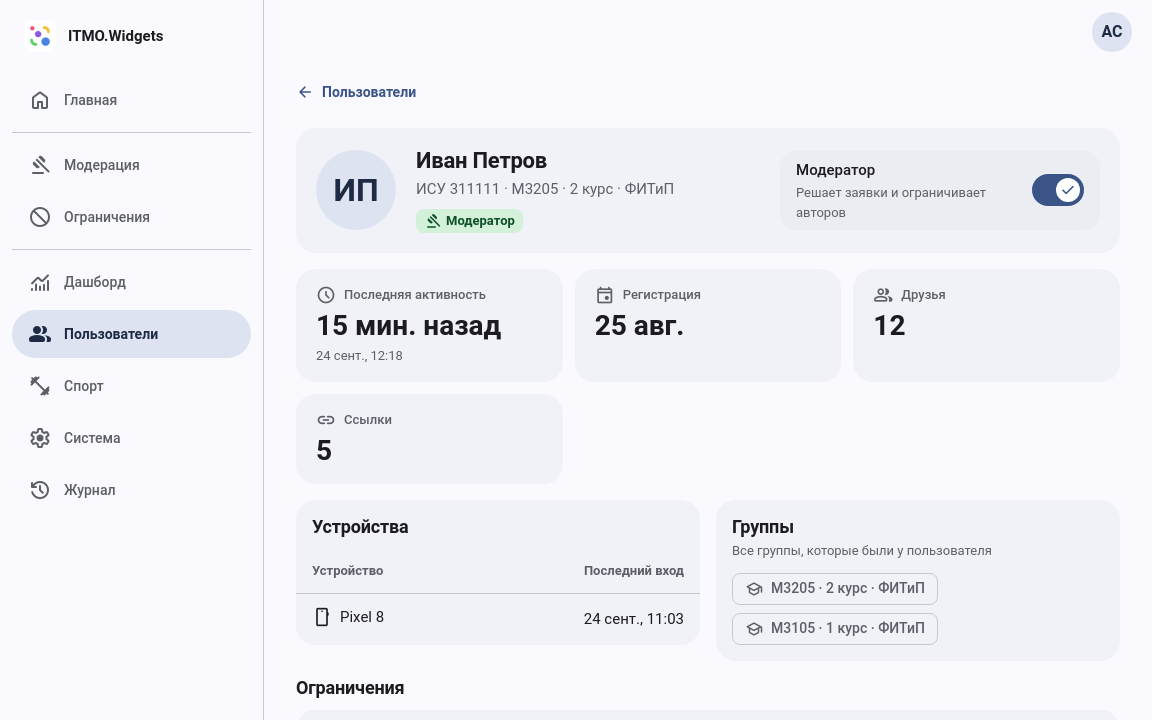
Scenario: UserPage › takes the moderator role away after confirmation
Step 1. Click the switch named "Модератор" → (1058, 190), box [1032,174,1084,206]
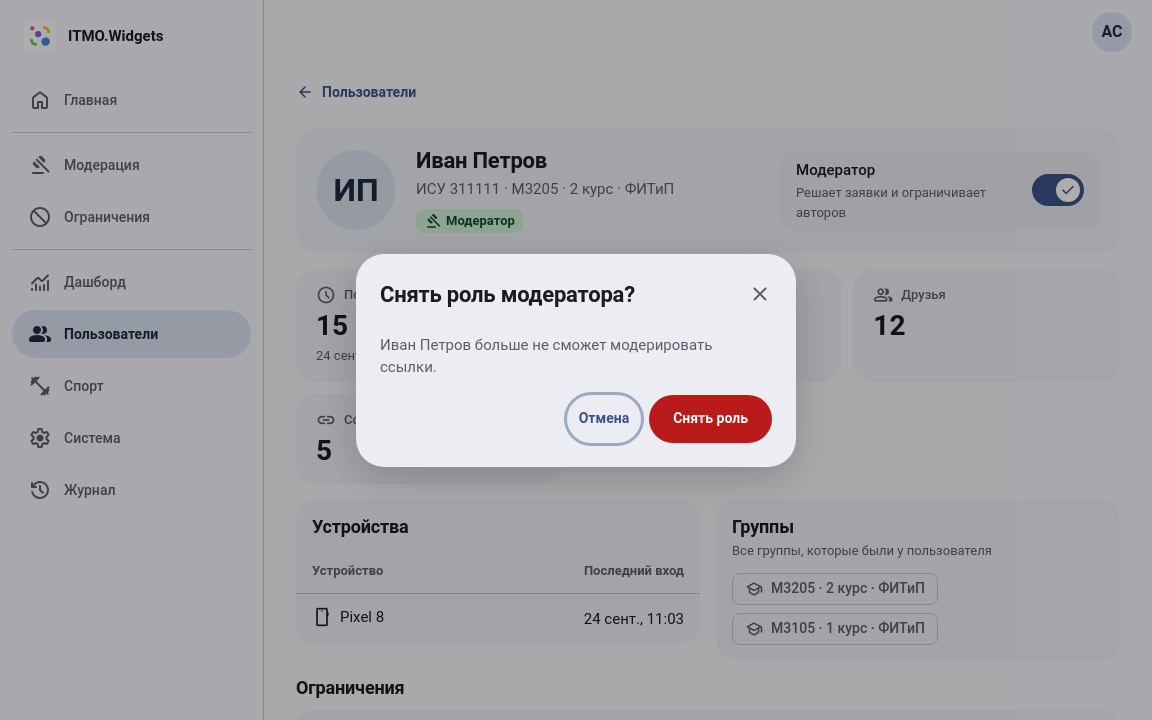
Step 2. Click the button "Снять роль" → (711, 418), box [649,394,772,442]
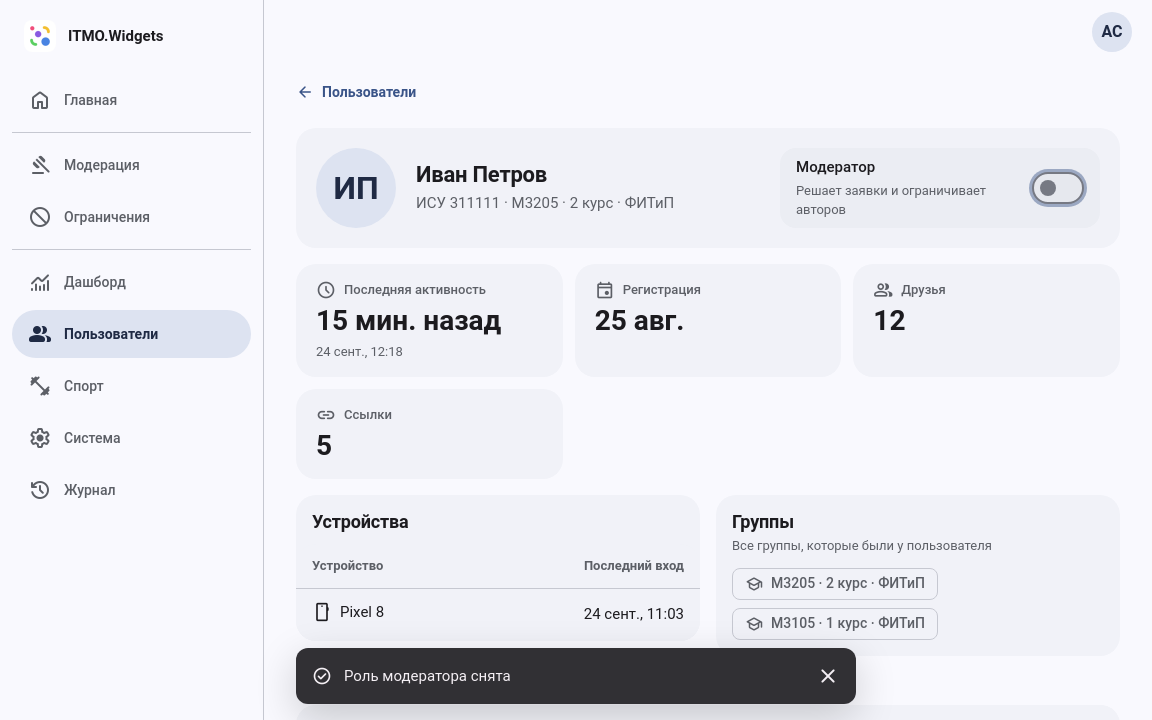
expect the switch named "Модератор" is not checked: met, box [1032,172,1084,204]
expect the text "Роль модератора снята" is shown: met, box [344,667,511,685]
